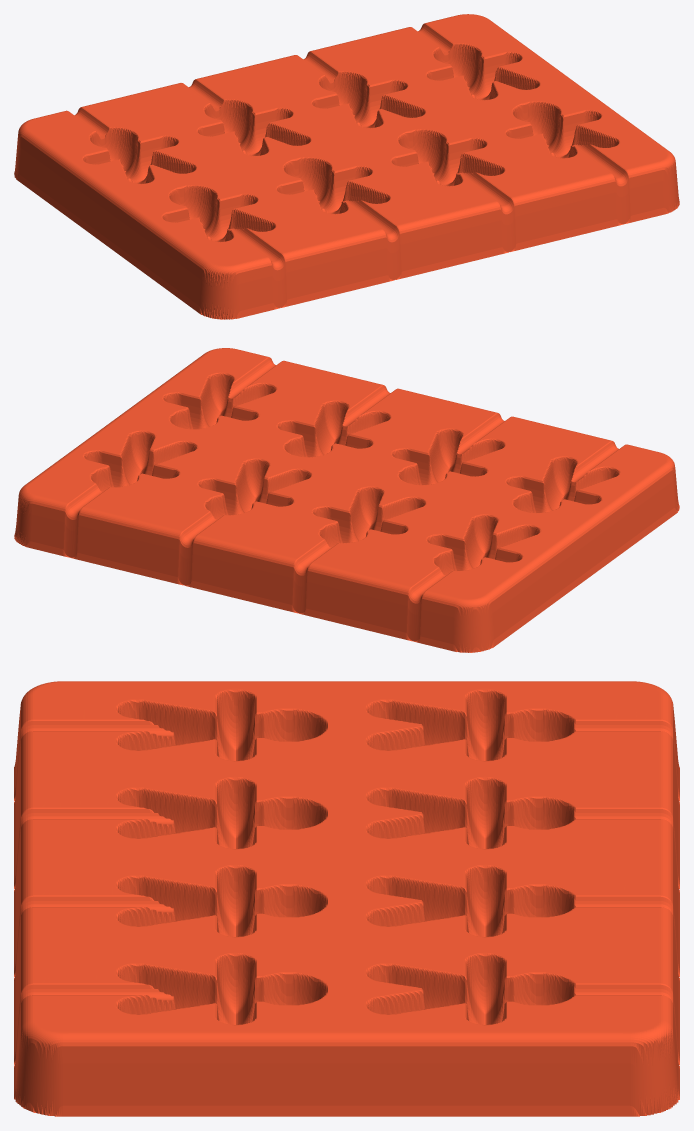
The model's file is mold.glb.
3 views of the same model, one above another, from view 1: azimuth 30°, elevation 25°; view 2: azimuth 150°, elevation 25°; view 3: azimuth 270°, elevation 25° (orthographic). The views are drawn at different scales.
Visible parts, largest first — view 1: geometry_0; view 2: geometry_0; view 3: geometry_0.
Part boxes in pixels (x1=…): geometry_0: x1=14, y1=14, x2=679, y2=319; geometry_0: x1=14, y1=348, x2=679, y2=652; geometry_0: x1=14, y1=681, x2=679, y2=1116.
Size of the model in its own units: 0.16 by 0.0155 by 0.1229.
